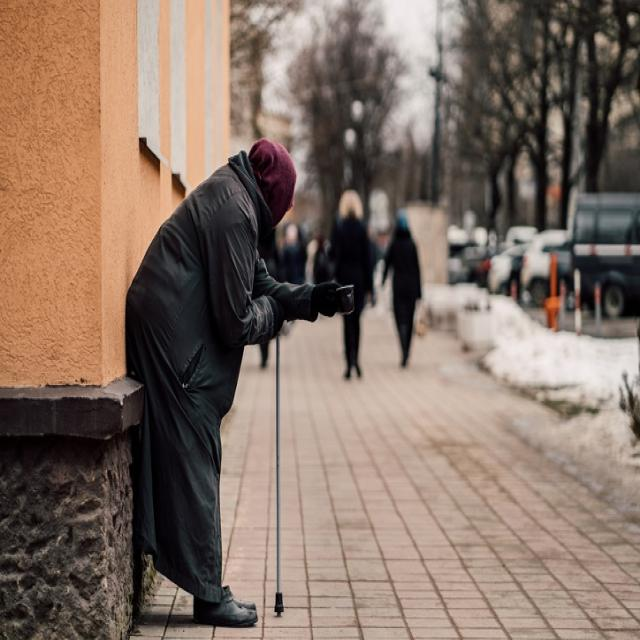loitering: (114, 94, 363, 626)
